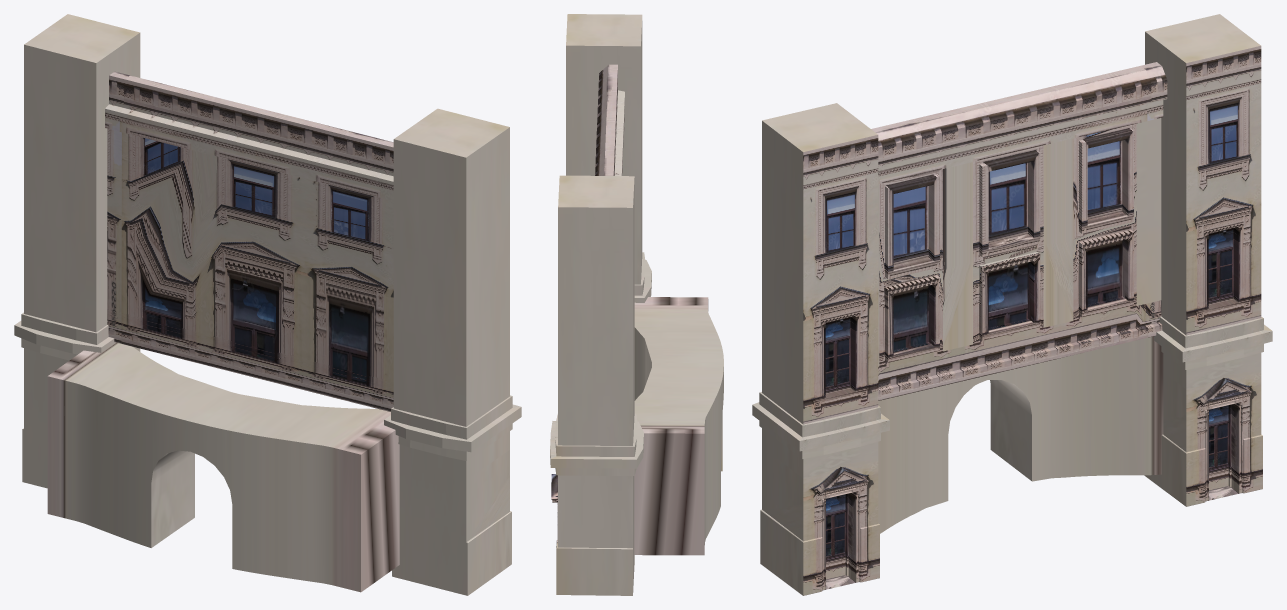
The model's file is Winkel van Sinkel.fbx.
3 renders of one model, left to right at view 1: azimuth 30°, elevation 25°; view 2: azimuth 150°, elevation 25°; view 3: azimuth 270°, elevation 25°, orthographic. The views are drawn at different scales.
Visible parts, largest first — view 1: pCube4, pCube137, pCube130, pCube139; view 2: pCube139, pCube137, pCube130, pCube4; view 3: pCube4, pCube130, pCube139, pCube137.
Part boxes in pixels (x1=…): pCube4: x1=105, y1=71, x2=393, y2=411; pCube137: x1=47, y1=342, x2=399, y2=592; pCube130: x1=384, y1=108, x2=521, y2=595; pCube139: x1=14, y1=14, x2=140, y2=488; pCube139: x1=550, y1=175, x2=643, y2=595; pCube137: x1=634, y1=297, x2=723, y2=555; pCube130: x1=566, y1=14, x2=651, y2=302; pCube4: x1=595, y1=64, x2=624, y2=175; pCube4: x1=871, y1=62, x2=1167, y2=400; pCube130: x1=752, y1=103, x2=889, y2=595; pCube139: x1=1144, y1=14, x2=1272, y2=506; pCube137: x1=878, y1=336, x2=1163, y2=533.
Bounding box in the file's own units: 1720 × 2259 × 2407.
